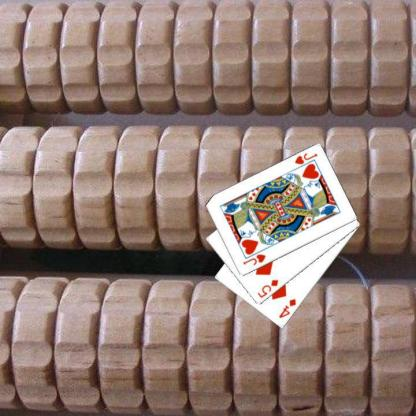4D: (276, 297, 298, 320)
5D: (255, 278, 280, 300)
JH: (292, 151, 318, 166), (240, 252, 267, 266)
